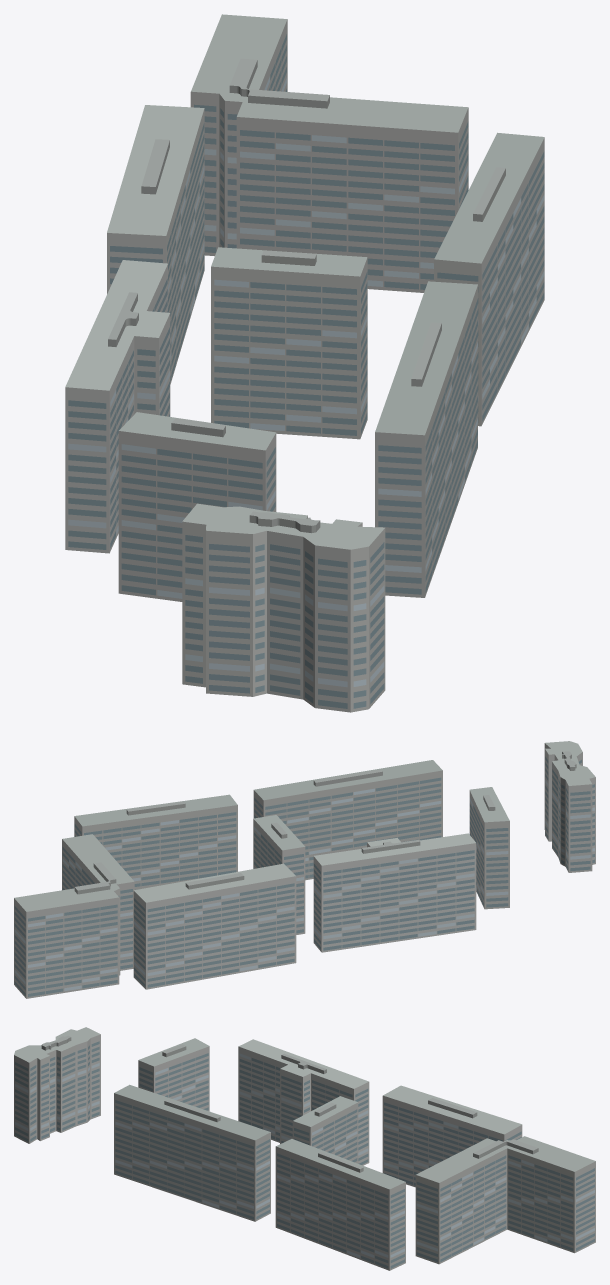
The model's file is apt-a13920506.glb.
3 renders of one model, top to bottom at view 1: azimuth 30°, elevation 25°; view 2: azimuth 150°, elevation 25°; view 3: azimuth 270°, elevation 25°, orthographic. The views are drawn at different scales.
Parts seen in each view (by area): view 1: apt-a13920506; view 2: apt-a13920506; view 3: apt-a13920506.
Boxes of the visible parts, x1,y1,x2,y2 form: apt-a13920506: (65, 14, 544, 712); apt-a13920506: (14, 741, 595, 998); apt-a13920506: (14, 1027, 595, 1270).
Size of the model in its own units: 196 by 47.81 by 296.
